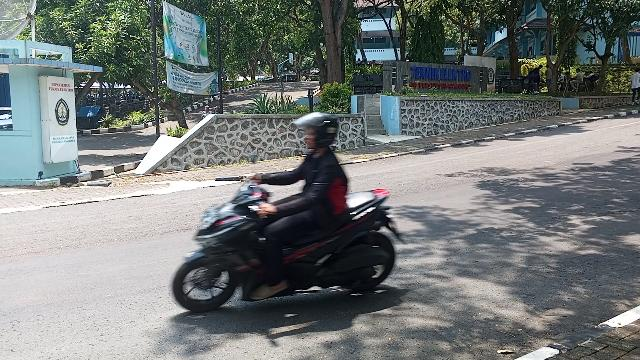helm: (292, 111, 342, 154)
motor: (172, 147, 412, 316)
